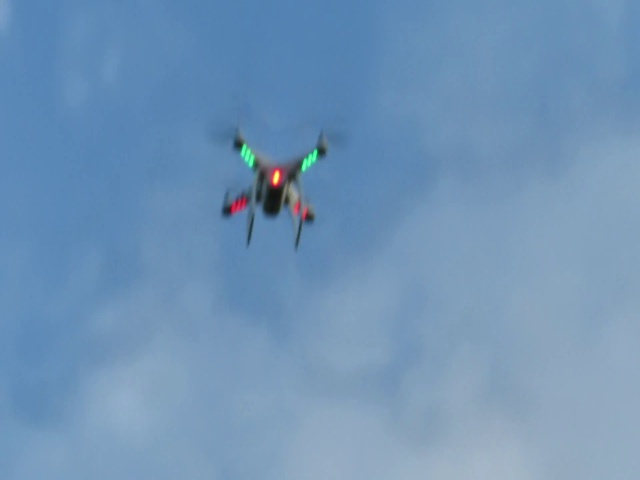drone: (208, 112, 347, 254)
